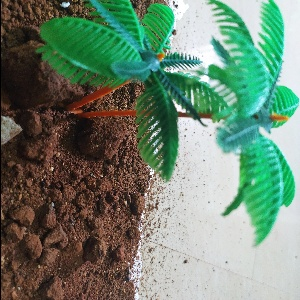plant: (39, 1, 300, 241)
